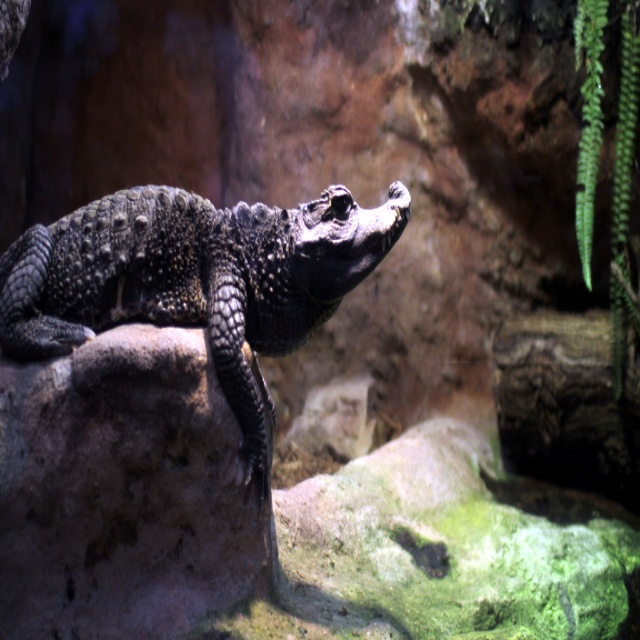Crocodile: (0, 182, 413, 505)
